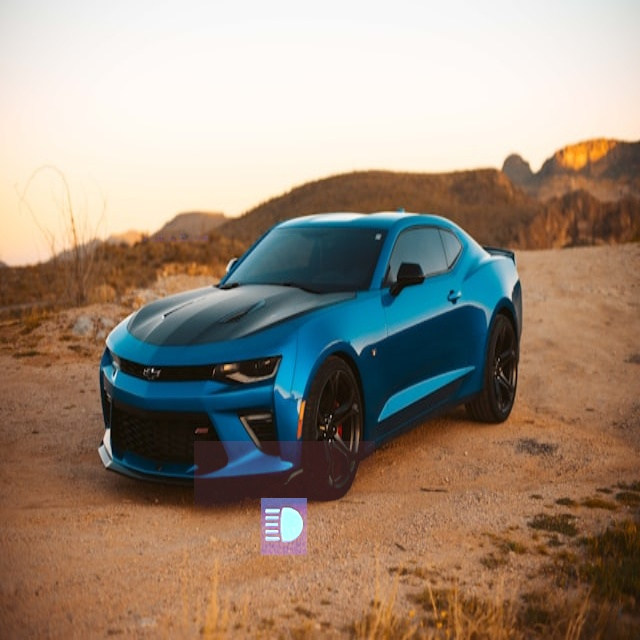symbol: (194, 441, 375, 622), (55, 90, 215, 250)
